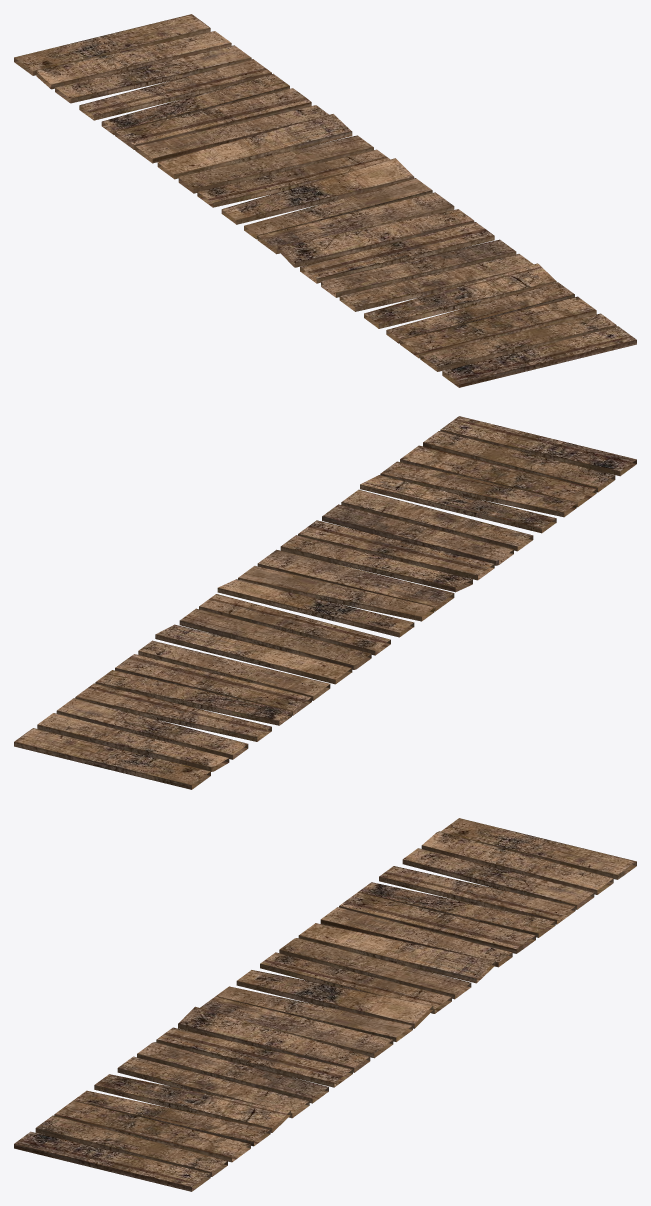
Rendered from plank-run.glb.
3 views of the same model, one above another, from view 1: azimuth 30°, elevation 25°; view 2: azimuth 150°, elevation 25°; view 3: azimuth 330°, elevation 25° (orthographic).
Visible parts, largest first — view 1: plank-run; view 2: plank-run; view 3: plank-run.
Boxes of the visible parts, left/top/right/bottom form: plank-run: left=14, top=14, right=636, bottom=387; plank-run: left=14, top=416, right=636, bottom=789; plank-run: left=14, top=818, right=636, bottom=1191.
Bounding box in the file's own units: 1.2 × 0.0622 × 5.2.
Materials: 1 (1 with a texture image).
